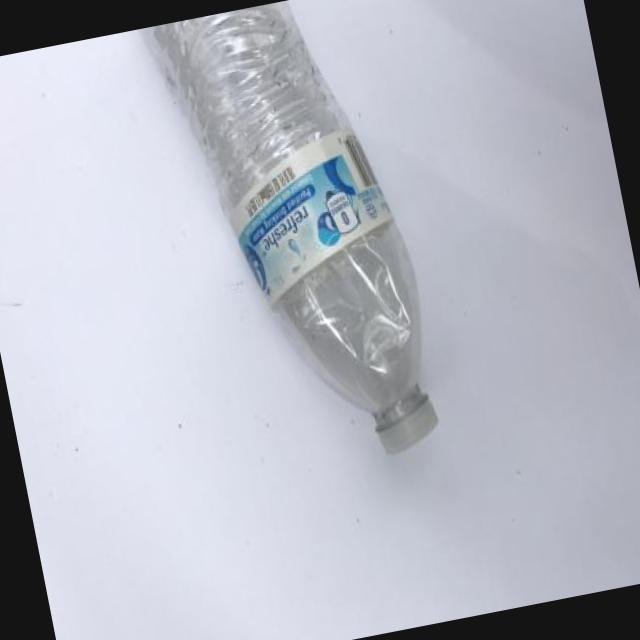Recycle: (137, 0, 450, 483)
